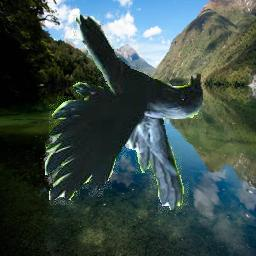Crow: (45, 15, 203, 216)
